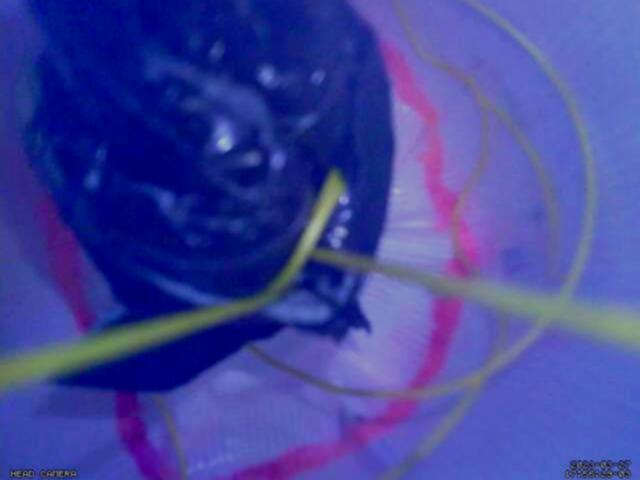head: (8, 37, 483, 480)
